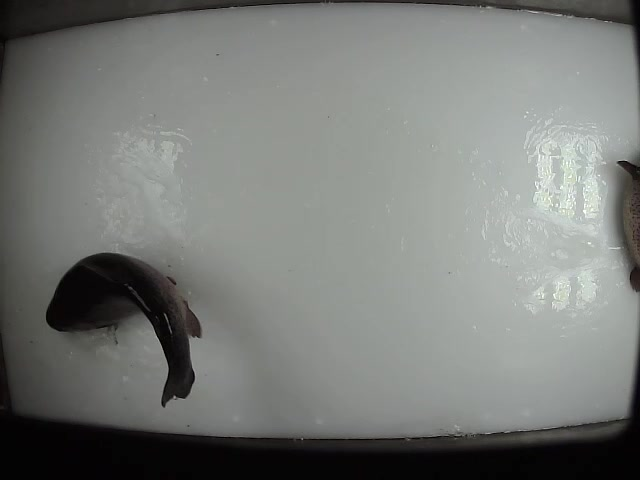fish: (44, 251, 204, 410)
